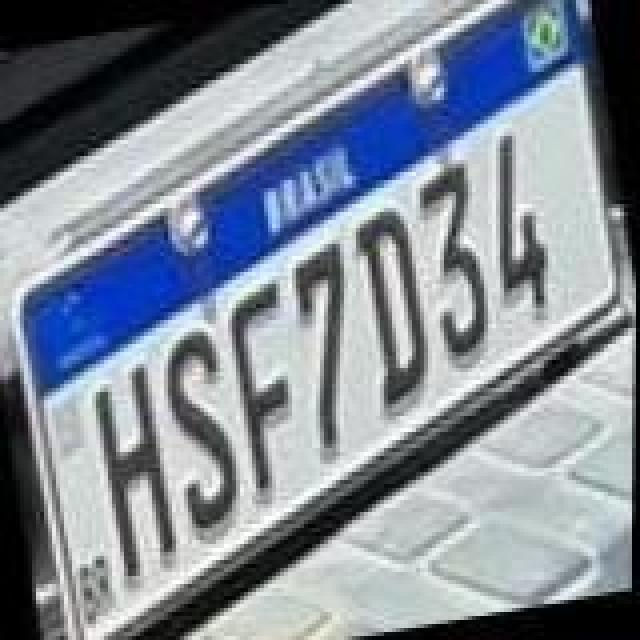3: (408, 160, 504, 360)
4: (474, 130, 562, 318)
7: (286, 238, 378, 450)
D: (342, 198, 442, 410)
F: (218, 274, 318, 494)
H: (88, 362, 188, 582)
S: (150, 326, 254, 538)
